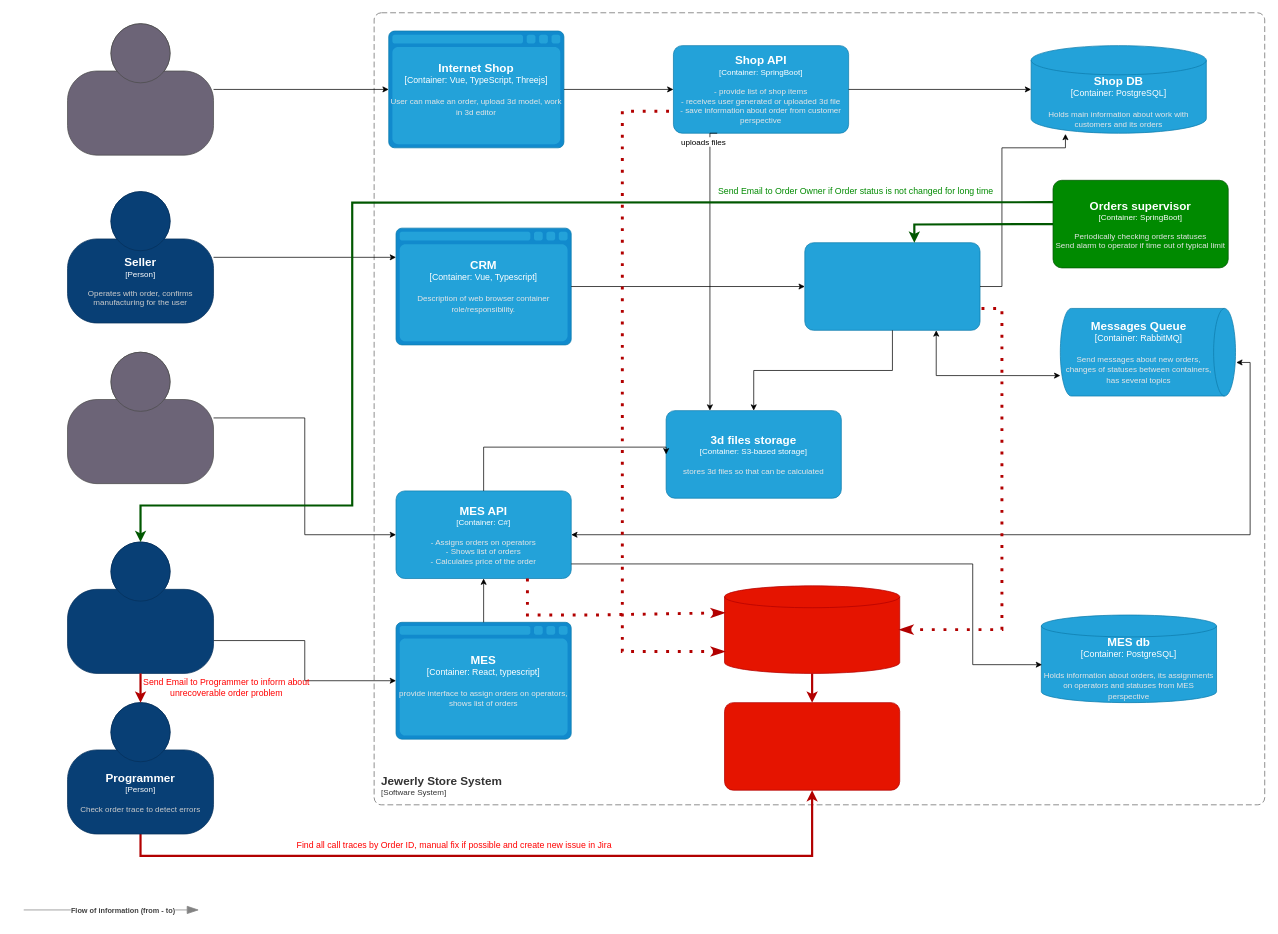
Image size: 1278x934. Some labels were removed from this diagram. The shapes that lost their labels are listed below. From the top down, each one's centre as x and y in pixels, then its label:
(x=140, y=89): Customer [Person] Description of external person.
(x=892, y=286): CRM API [Container: SpringBoot] Description of container role/responsibility.
(x=140, y=417): API user [Person] Description of external person.
(x=140, y=607): Operator [Person] Takes order in work, manufactures jewerly
(x=812, y=629): Jaeger db [Container: Jaeger] Holds information about API calls traces
(x=812, y=746): Jaeger UI [Container: JS] UI for Jaeger
